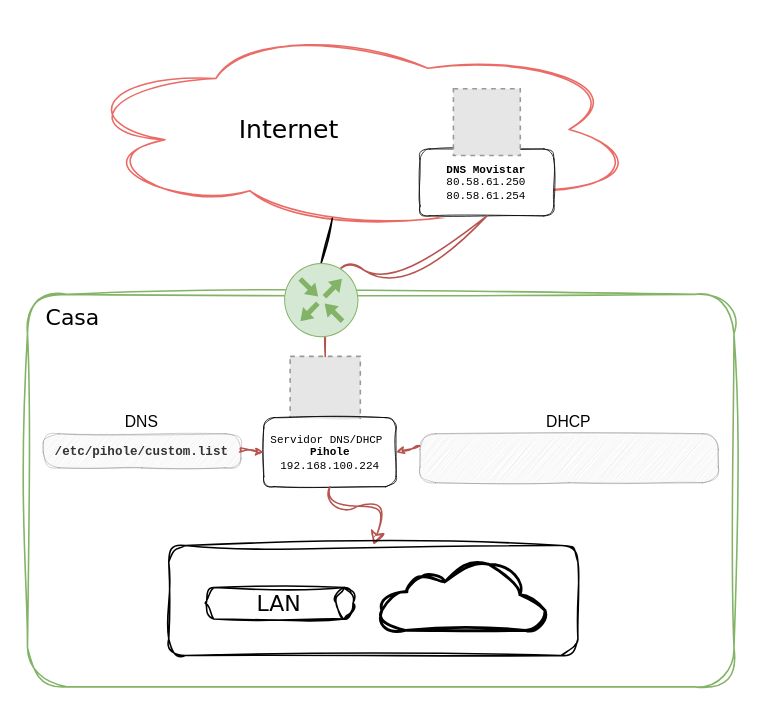
Image size: 761x714. Some labels were removed from this diagram. Grey dashed boxes stand in for pictures. The box of each missing label's shape, as (x1, y1, x2, y2) in pixels:
/etc/dnsmasq.d/ 02-pihole-dhcp.conf /etc/dnsmasq.d/ 03-pihole-custom.conf: (419, 433, 718, 482)
WiFi: (380, 560, 547, 630)
